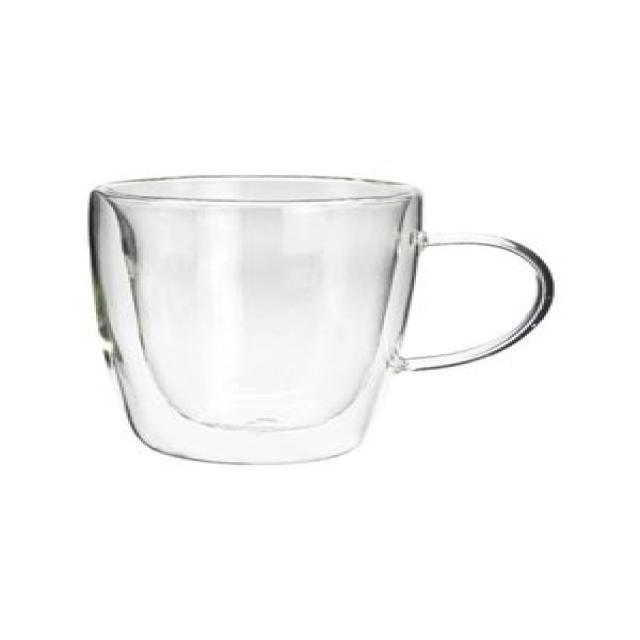Coffee Mug: (89, 175, 556, 465)
